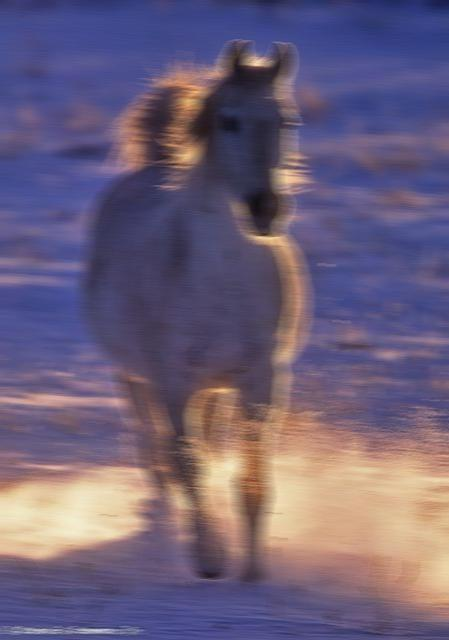horse: (79, 37, 311, 584)
